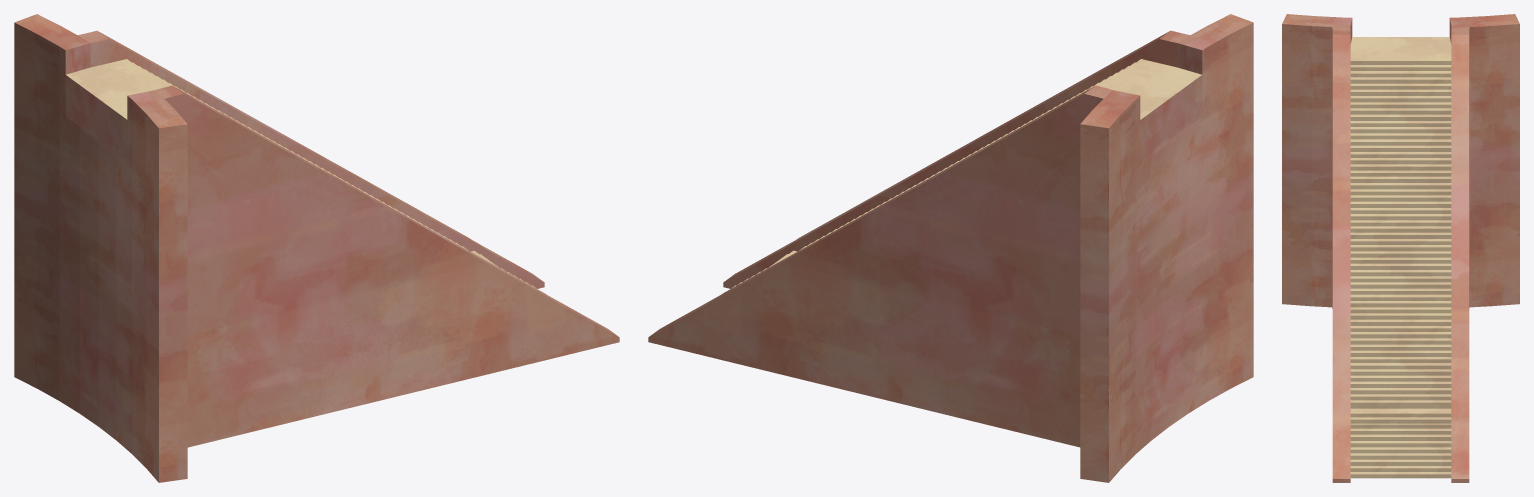
Rendered from stairs_top.fbx.
3 renders of one model, left to right at view 1: azimuth 30°, elevation 25°; view 2: azimuth 150°, elevation 25°; view 3: azimuth 270°, elevation 25°, orthographic. The views are drawn at different scales.
Parts seen in each view (by area): view 1: _Based Fin.015; view 2: _Based Fin.015; view 3: _Based Fin.015.
Boxes of the visible parts, box(x1,y1,x2,y2) form: _Based Fin.015: box(14, 14, 619, 482); _Based Fin.015: box(648, 14, 1253, 482); _Based Fin.015: box(1282, 14, 1519, 482).
Size of the model in its own units: 4228 by 2926 by 2251.
